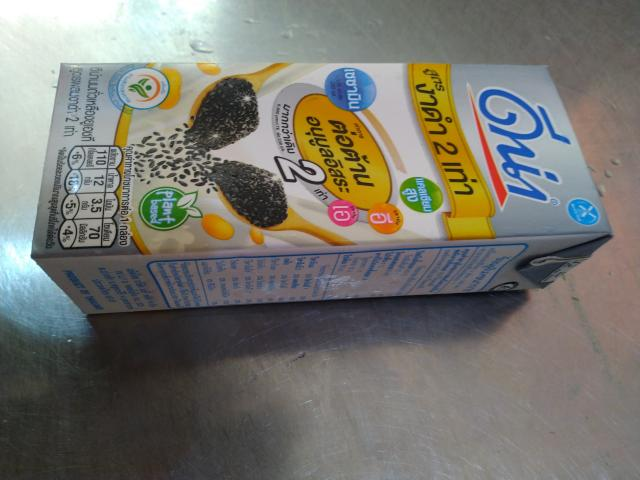drink_box: (30, 53, 618, 324)
